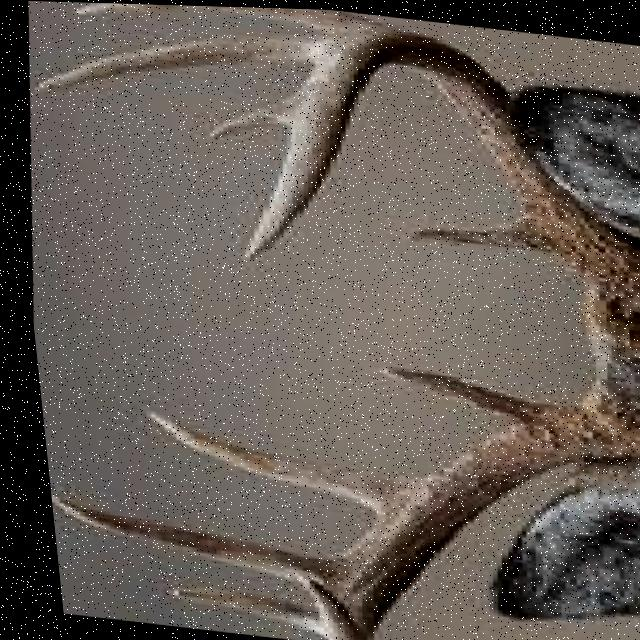E1: (203, 91, 294, 139)
L-F: (235, 25, 640, 308)
L-G1: (398, 211, 541, 249)
L-G2: (70, 2, 391, 33)
L-G3: (26, 33, 328, 91)
R-F: (294, 388, 640, 640)
R-G1: (371, 363, 535, 422)
R-G2: (134, 407, 412, 514)
R-G3: (40, 494, 322, 588)
R-G4: (157, 585, 311, 639)
